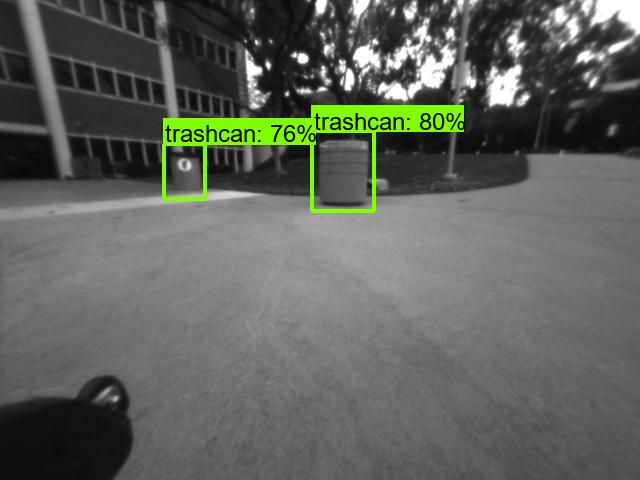trashcan: (314, 136, 371, 208), (169, 146, 202, 191)
